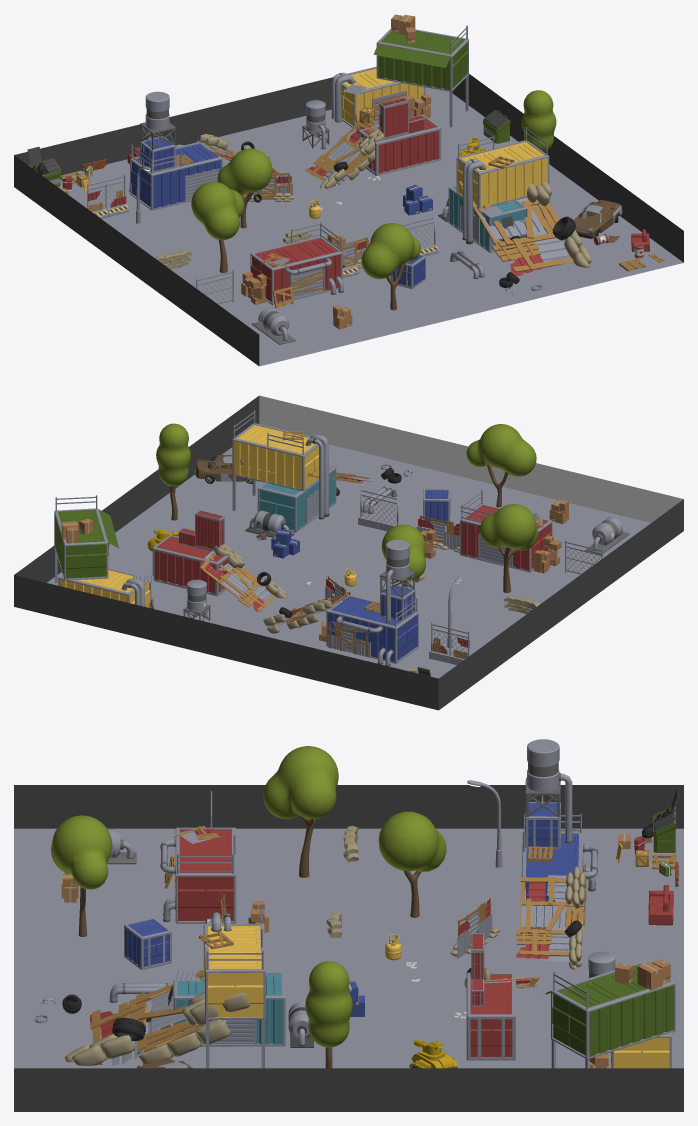
Rendered from map.glb.
3 renders of one model, top to bottom at view 1: azimuth 30°, elevation 25°; view 2: azimuth 150°, elevation 25°; view 3: azimuth 270°, elevation 25°, orthographic. The views are drawn at different scales.
Visible parts, largest first — view 1: Plane, Structure_2, Structure_4, Structure_3, Structure_1, Barrier_Trash.003, Container_Long, Tree_3, Barrier_Trash.002, Tree_1, Tree_4, Tree_2 (+11 smaller); view 2: Plane, Structure_4, Structure_3, Structure_2, Structure_1, Tree_3, Container_Long, Tree_1, Barrier_Trash.002, Tree_2, Barrier_Trash.001, Tree_4 (+9 smaller); view 3: Plane, Structure_2, Structure_4, Barrier_Trash.003, Structure_3, Structure_1, Barrier_Trash.001, Tree_1, Container_Long, Tree_3, Tree_4, Tree_2 (+9 smaller).
Boxes of the visible parts, x1=… form: Plane: x1=14, y1=67, x2=683, y2=366; Structure_2: x1=331, y1=14, x2=468, y2=129; Structure_4: x1=438, y1=127, x2=549, y2=252; Structure_3: x1=129, y1=91, x2=222, y2=210; Structure_1: x1=241, y1=222, x2=343, y2=308; Barrier_Trash.003: x1=458, y1=181, x2=591, y2=276; Container_Long: x1=358, y1=114, x2=441, y2=175; Tree_3: x1=361, y1=223, x2=420, y2=310; Barrier_Trash.002: x1=305, y1=121, x2=384, y2=188; Tree_1: x1=191, y1=181, x2=244, y2=273; Tree_4: x1=217, y1=148, x2=272, y2=228; Tree_2: x1=521, y1=90, x2=556, y2=151; Plane: x1=14, y1=395, x2=683, y2=710; Structure_4: x1=232, y1=410, x2=339, y2=537; Structure_3: x1=319, y1=539, x2=418, y2=666; Structure_2: x1=54, y1=495, x2=154, y2=609; Structure_1: x1=459, y1=489, x2=561, y2=573; Tree_3: x1=466, y1=424, x2=536, y2=507; Container_Long: x1=152, y1=535, x2=234, y2=596; Tree_1: x1=479, y1=504, x2=538, y2=592; Barrier_Trash.002: x1=199, y1=544, x2=288, y2=611; Tree_2: x1=156, y1=423, x2=190, y2=520; Barrier_Trash.001: x1=263, y1=592, x2=348, y2=633; Tree_4: x1=381, y1=524, x2=425, y2=587; Plane: x1=14, y1=785, x2=683, y2=1111; Structure_2: x1=544, y1=959, x2=675, y2=1068; Structure_4: x1=146, y1=905, x2=313, y2=1068; Barrier_Trash.003: x1=64, y1=970, x2=265, y2=1065; Structure_3: x1=521, y1=739, x2=598, y2=929; Structure_1: x1=160, y1=826, x2=236, y2=923; Barrier_Trash.001: x1=516, y1=866, x2=585, y2=969; Tree_1: x1=263, y1=746, x2=338, y2=877; Container_Long: x1=466, y1=972, x2=515, y2=1060; Tree_3: x1=51, y1=815, x2=112, y2=936; Tree_4: x1=378, y1=811, x2=446, y2=917; Tree_2: x1=305, y1=961, x2=352, y2=1068.
Size of the model in its own units: 39.88 by 11.49 by 39.88.
Materials: 55 (1 with a texture image).
